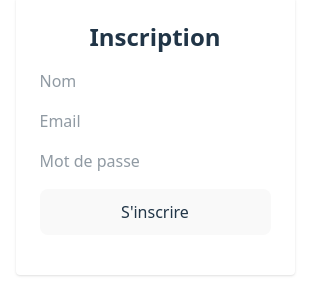
Test: Register.vue › affiche une erreur si l’inscription échoue
Type "Jean" into the field with placeholder "Nom" at (155, 81), box [40,69,270,93]
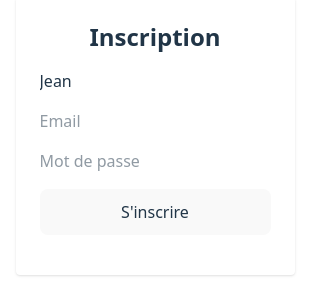
Type "jean@example.com" into the field with placeholder "Email" at (155, 121), box [40,109,270,133]
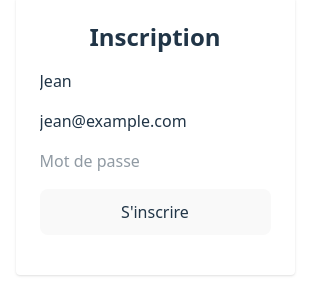
Type "123456" into the password field with placeholder "Mot de passe" at (155, 161), box [40,149,270,173]
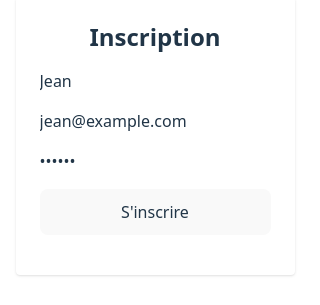
Submit the form, box [40,69,270,235]
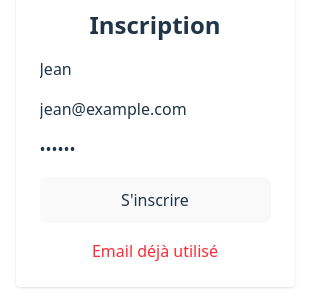
Expected: the text "Email déjà utilisé" is shown, [92,240,218,262]
